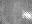person: (24, 11, 31, 19)
